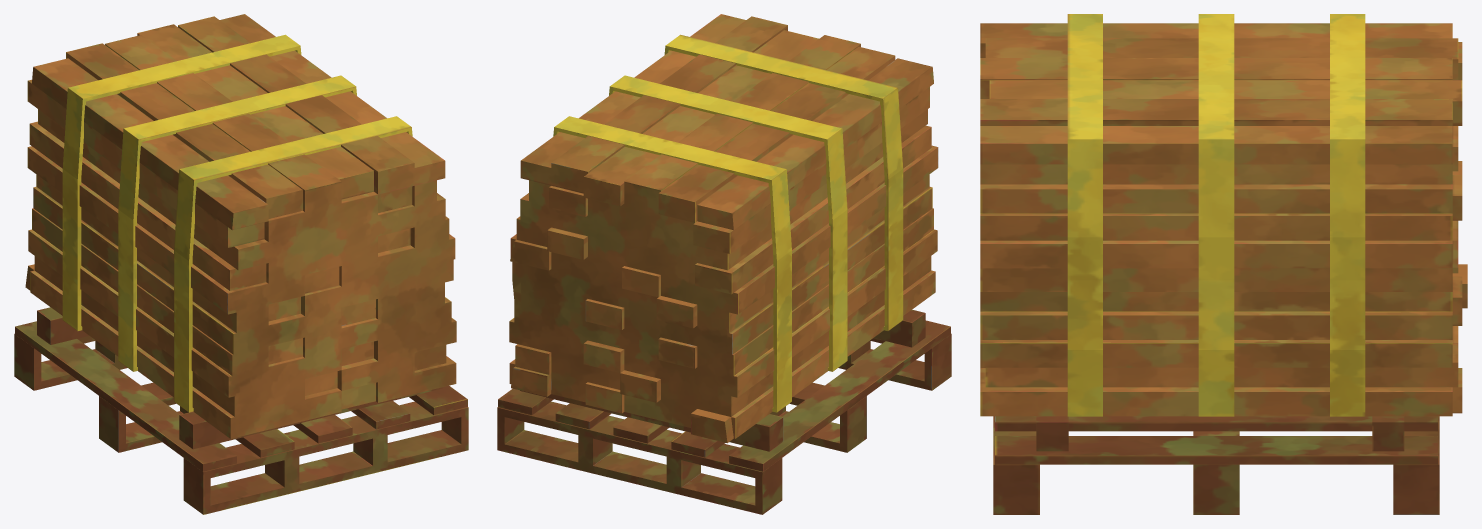
The model's file is Palette.fbx.
3 views of the same model, side by side, from view 1: azimuth 30°, elevation 25°; view 2: azimuth 150°, elevation 25°; view 3: azimuth 270°, elevation 25° (orthographic). The views are drawn at different scales.
Parts seen in each view (by area): view 1: Cube.096; view 2: Cube.096; view 3: Cube.096.
Part boxes in pixels (x1,y1,x2,y2): Cube.096: (14,14,468,514); Cube.096: (497,14,951,514); Cube.096: (980,14,1467,514).
Size of the model in its own units: 549 by 606 by 741.
